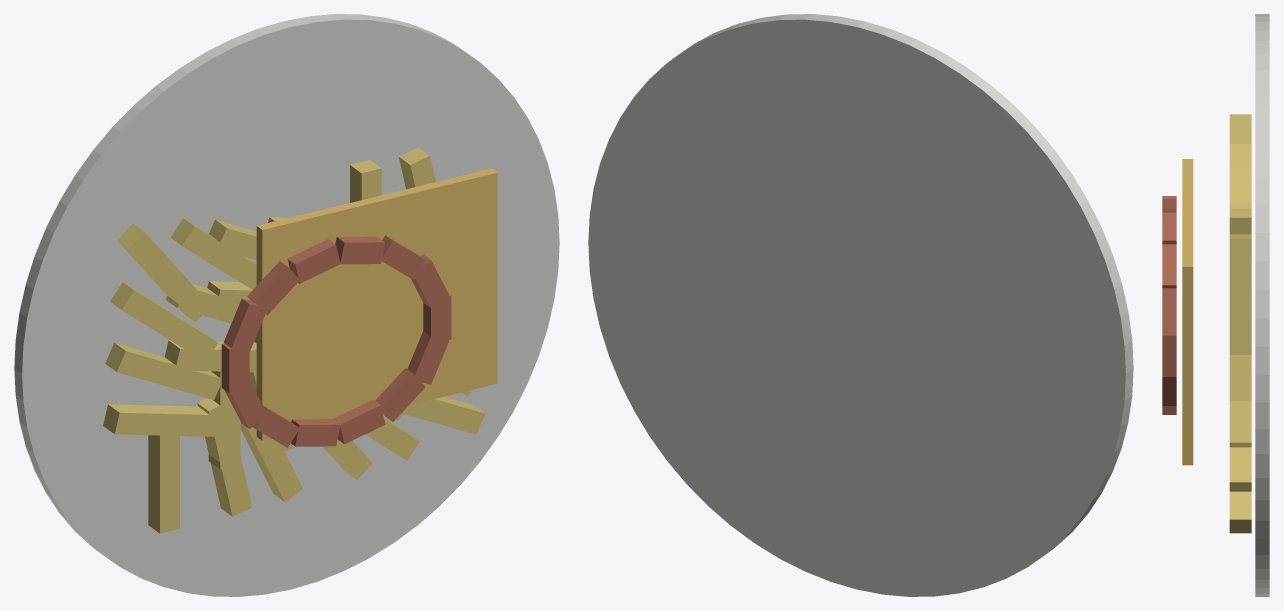
The model's file is papas-rabieta.glb.
3 renders of one model, left to right at view 1: azimuth 30°, elevation 25°; view 2: azimuth 150°, elevation 25°; view 3: azimuth 270°, elevation 25°, orthographic. The views are drawn at different scales.
Visible parts, largest first — view 1: world; view 2: world; view 3: world.
Boxes of the visible parts, bbox=[...] form: world: bbox=[14, 14, 559, 596]; world: bbox=[588, 14, 1133, 596]; world: bbox=[1162, 14, 1269, 596].
Size of the model in its own units: 0.32 by 0.32 by 0.059.
